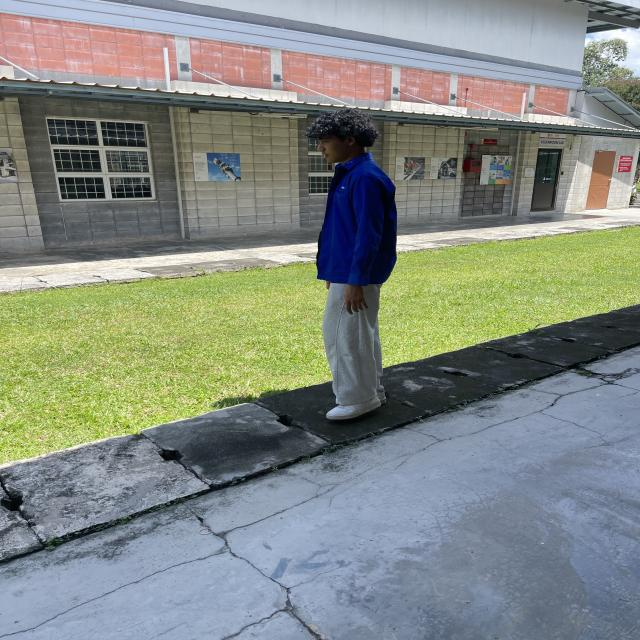person_with_labcoat: (306, 109, 397, 420)
